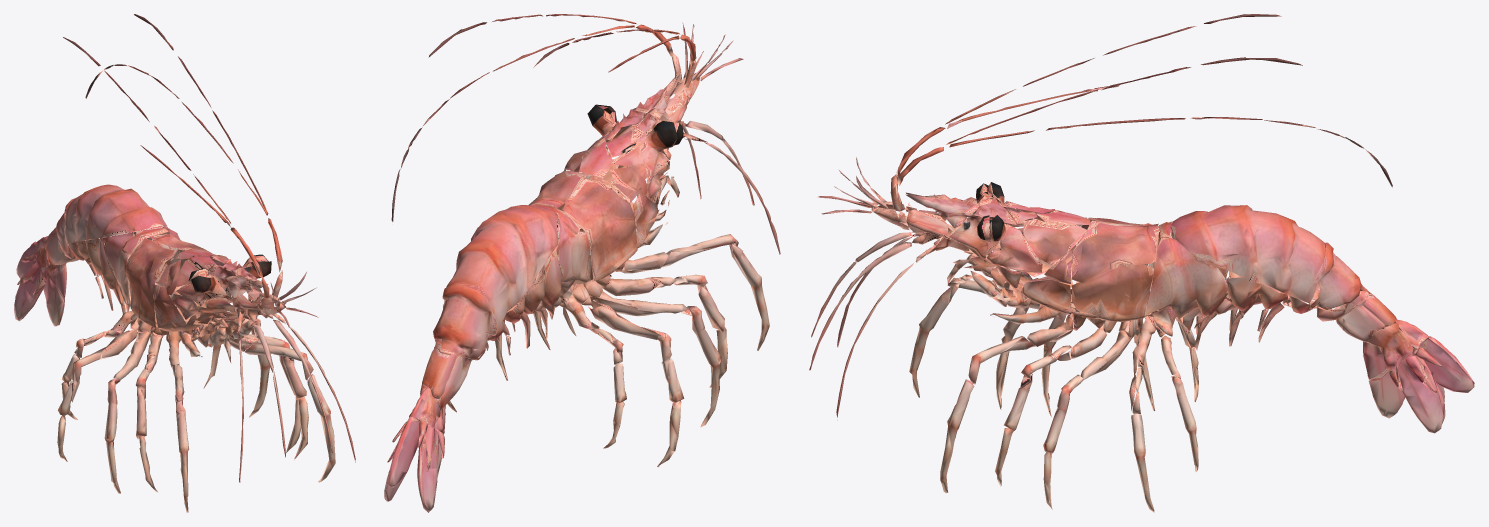
File: Shrimp.obj
3 renders of one model, left to right at view 1: azimuth 30°, elevation 25°; view 2: azimuth 150°, elevation 25°; view 3: azimuth 270°, elevation 25°, orthographic. The views are drawn at different scales.
Bounding box in the file's own units: 0.4199 × 0.7105 × 1.
1 material, 1 textured.
